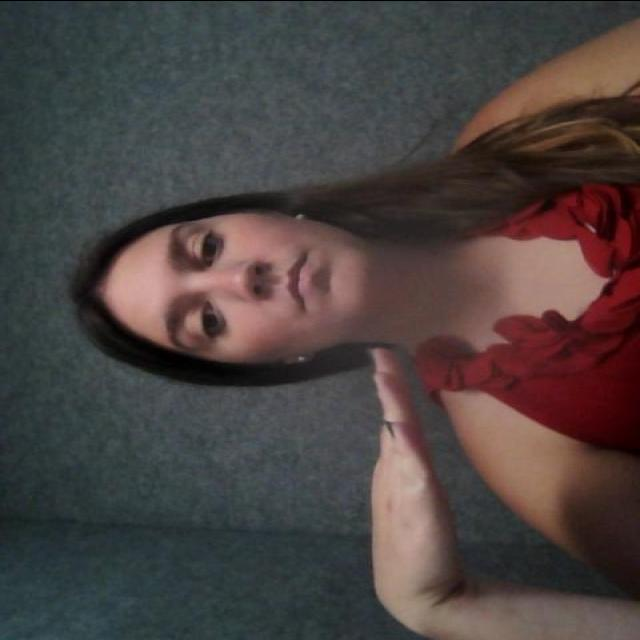Paper: (331, 351, 497, 614)
